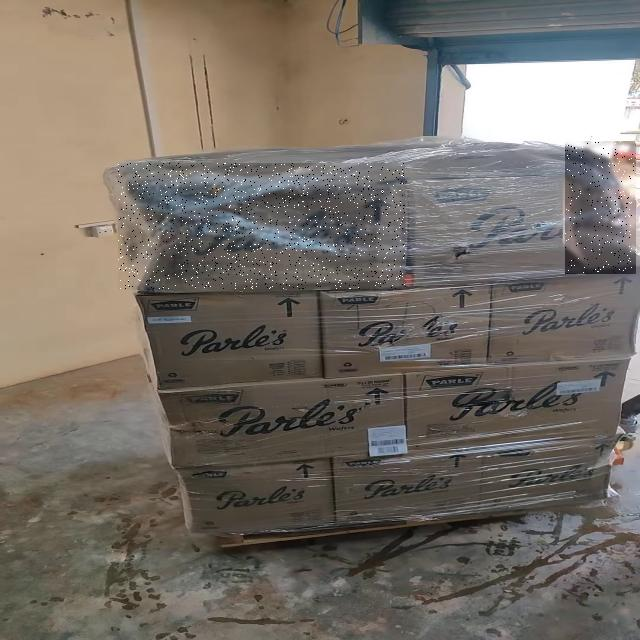squeeze: (119, 163, 405, 289), (566, 141, 634, 273)
